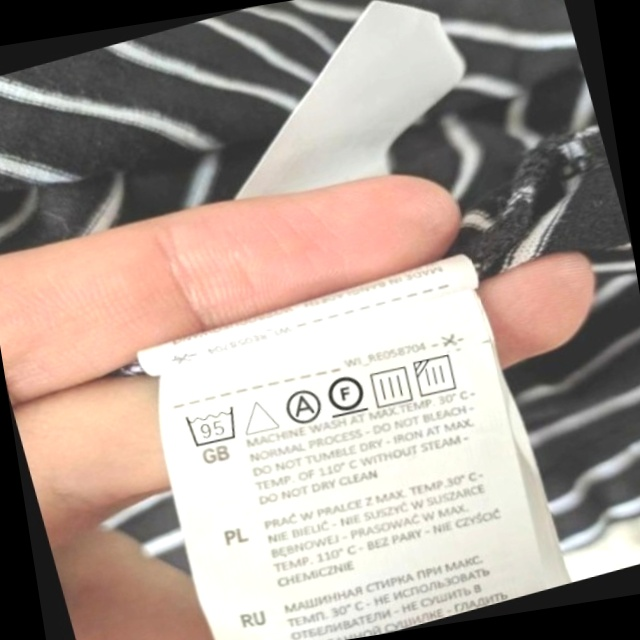95C: (180, 399, 246, 453)
bleach: (236, 391, 282, 441)
drip_dry: (364, 359, 419, 413)
drip_dry_in_shade: (409, 347, 466, 403)
dry_clean: (278, 383, 326, 430)
dry_clean_petrol_only: (321, 366, 372, 422)
